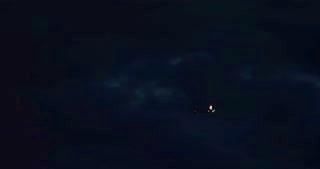Plane: (195, 101, 227, 115)
